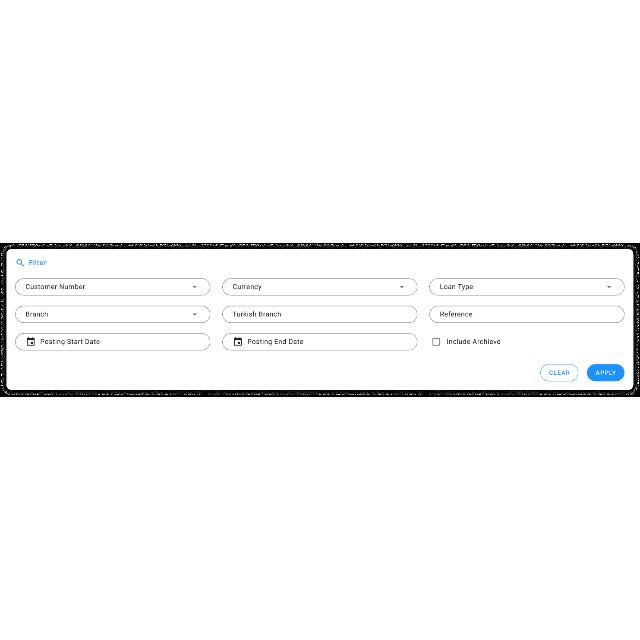QLabel: (444, 339, 502, 347), (548, 368, 570, 378), (28, 258, 48, 268), (596, 369, 618, 376)
VBtn: (586, 364, 624, 382), (540, 365, 578, 383)
VCard: (5, 246, 633, 392)
VCheckbox: (431, 337, 441, 347)
VCombobox: (14, 306, 210, 324), (222, 278, 418, 296), (16, 278, 210, 296), (430, 278, 624, 296)
VIcon: (16, 258, 24, 268)
VInlineDatepicker: (222, 332, 416, 352), (16, 334, 210, 352)
VTextField: (222, 305, 418, 323), (430, 306, 624, 324)
